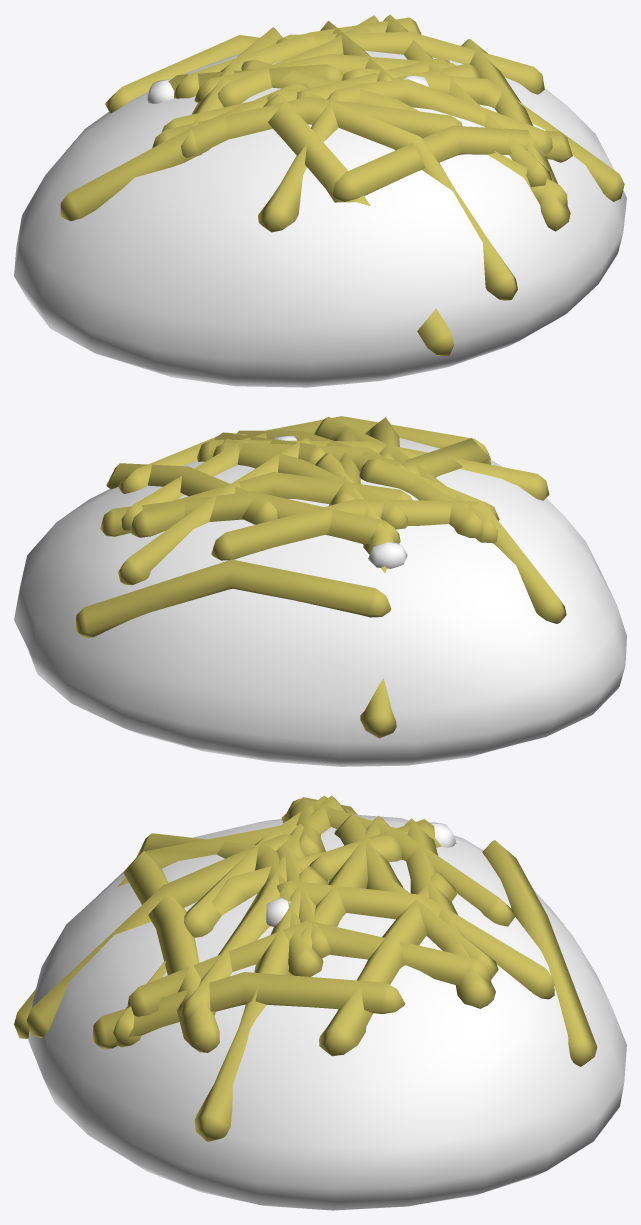
Rendered from RAW_pickle_base.fbx.
3 renders of one model, top to bottom at view 1: azimuth 30°, elevation 25°; view 2: azimuth 150°, elevation 25°; view 3: azimuth 270°, elevation 25°, orthographic. The views are drawn at different scales.
Visible parts, largest first — view 1: RAW_pickle_base; view 2: RAW_pickle_base; view 3: RAW_pickle_base.
Boxes of the visible parts, box(x1,y1,x2,y2) form: RAW_pickle_base: box(14, 14, 626, 387); RAW_pickle_base: box(14, 416, 626, 766); RAW_pickle_base: box(14, 795, 626, 1210).
Bounding box in the file's own units: 0.0553 × 0.0218 × 0.0481.
